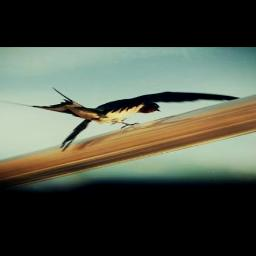Swallow: (0, 86, 244, 152)
